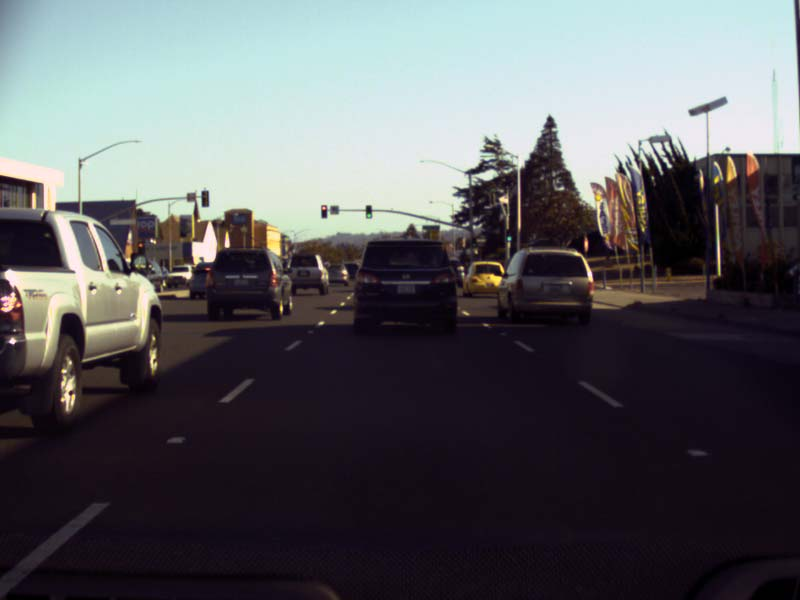Green: (365, 205, 371, 217), (505, 230, 511, 240), (471, 237, 476, 246)
Red: (137, 241, 144, 254), (320, 205, 326, 217)
